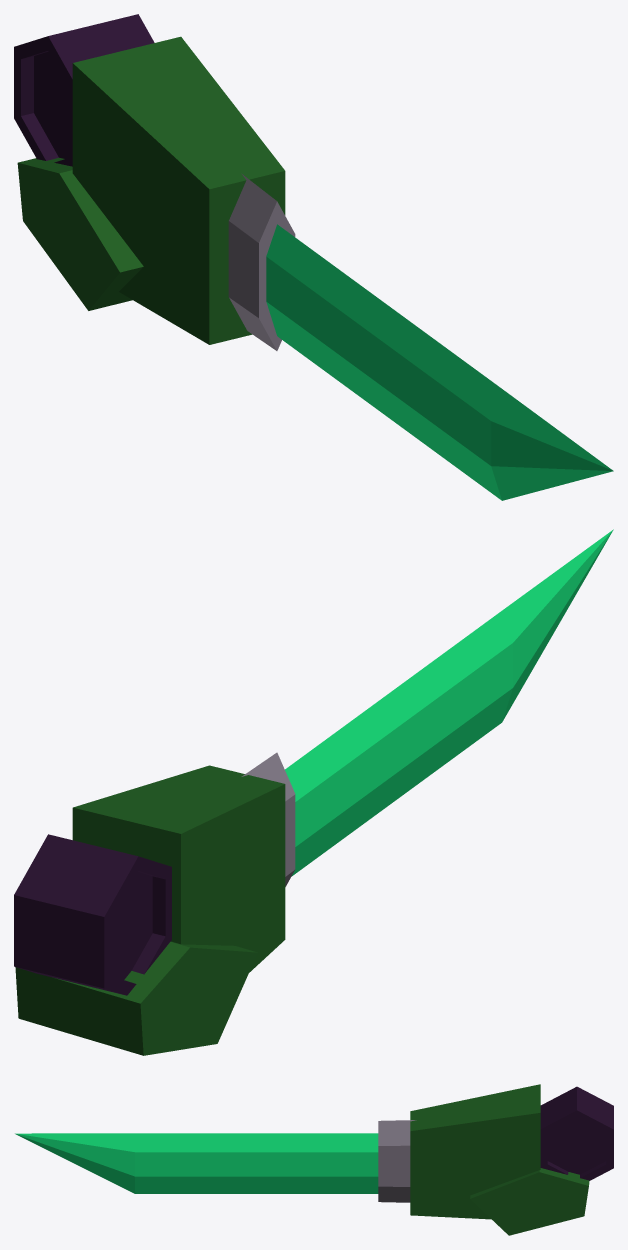
File: Arm Sword Cannon Ver1.fbx
The picture shows the model from 3 angles, top to bottom: view 1: azimuth 30°, elevation 25°; view 2: azimuth 150°, elevation 25°; view 3: azimuth 270°, elevation 25°; orthographic projection. The views are drawn at different scales.
Visible parts, largest first — view 1: Arm Blade; view 2: Arm Blade; view 3: Arm Blade.
Boxes of the visible parts, box(x1,y1,x2,y2) form: Arm Blade: box(14, 14, 613, 500); Arm Blade: box(14, 529, 613, 1055); Arm Blade: box(15, 1084, 613, 1235).
Size of the model in its own units: 96.4 by 152 by 677.
